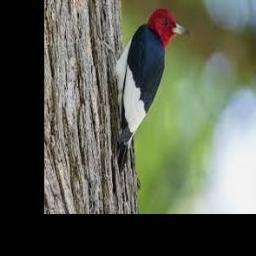Woodpecker: (103, 7, 190, 172)
